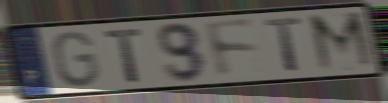9: (154, 20, 211, 84)
F: (202, 17, 261, 81)
G: (51, 30, 102, 89)
M: (305, 9, 380, 75)
T: (103, 26, 146, 84), (263, 16, 306, 74)
